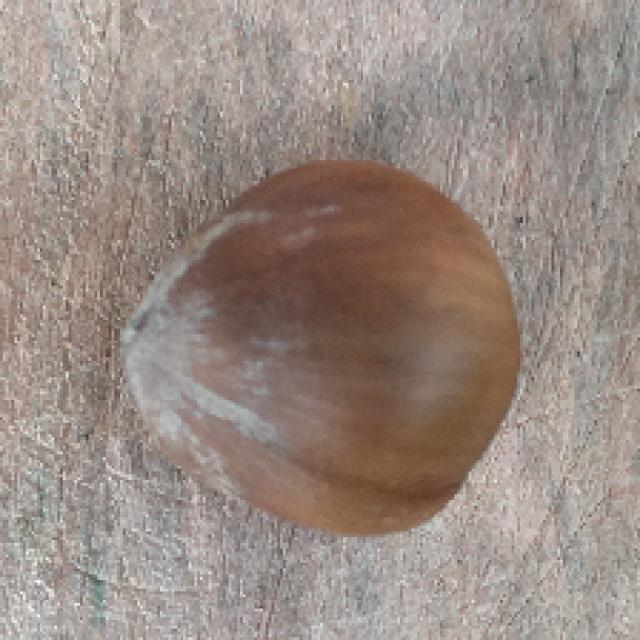damagedHazelnut: (121, 153, 524, 545)
